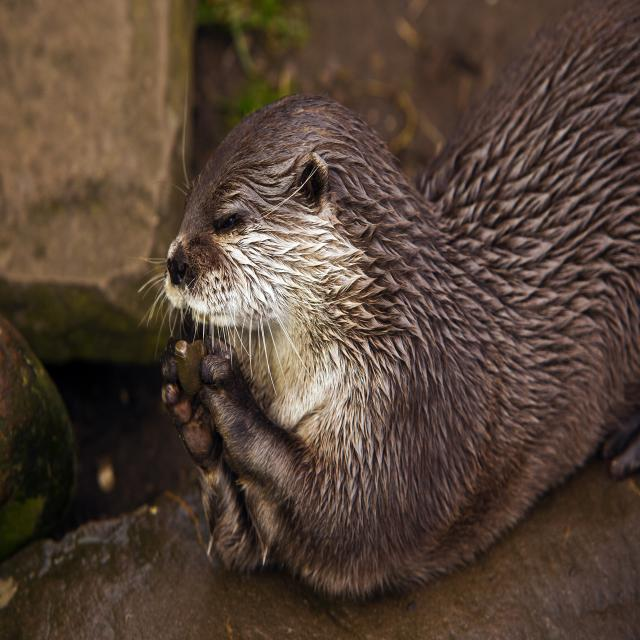otter: (165, 91, 640, 591)
